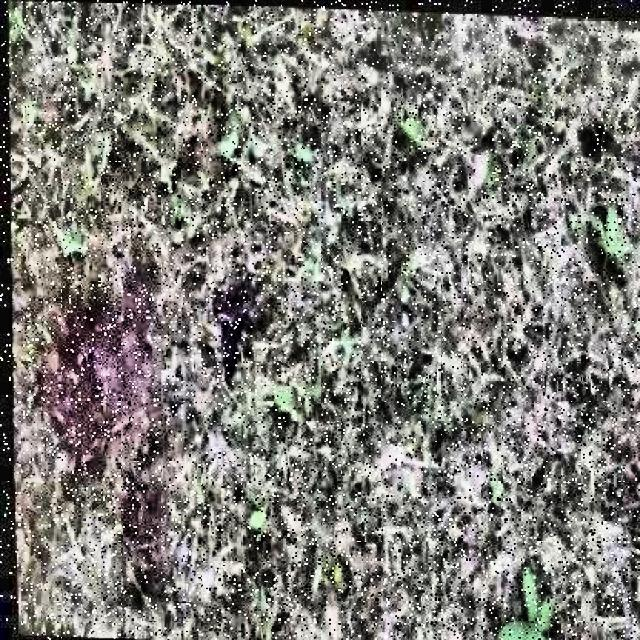Weeds: (488, 558, 554, 640)
